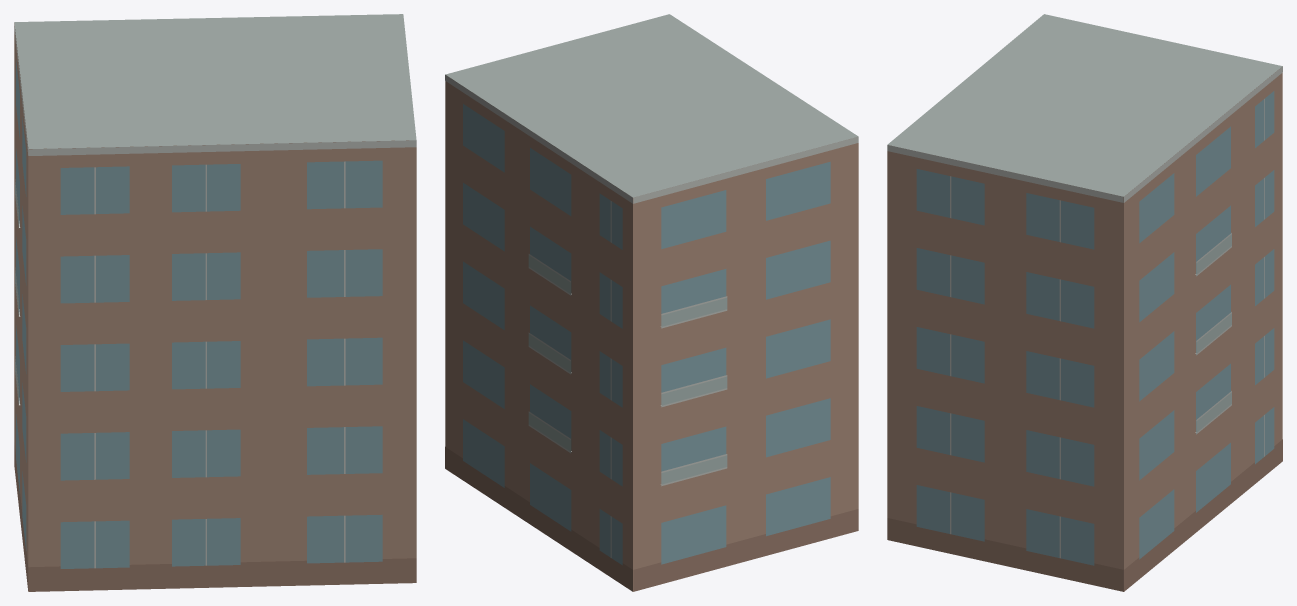
Rendered from survey-upis-32881658.glb.
3 renders of one model, left to right at view 1: azimuth 30°, elevation 25°; view 2: azimuth 150°, elevation 25°; view 3: azimuth 270°, elevation 25°, orthographic. The views are drawn at different scales.
Visible parts, largest first — view 1: survey-upis-32881658.tmp; view 2: survey-upis-32881658.tmp; view 3: survey-upis-32881658.tmp.
Part boxes in pixels (x1,y1,x2,y2): survey-upis-32881658.tmp: (14,14,416,591); survey-upis-32881658.tmp: (445,14,858,591); survey-upis-32881658.tmp: (887,14,1282,591).
Bounding box in the file's own units: 15.29 × 15.4 × 13.98.
